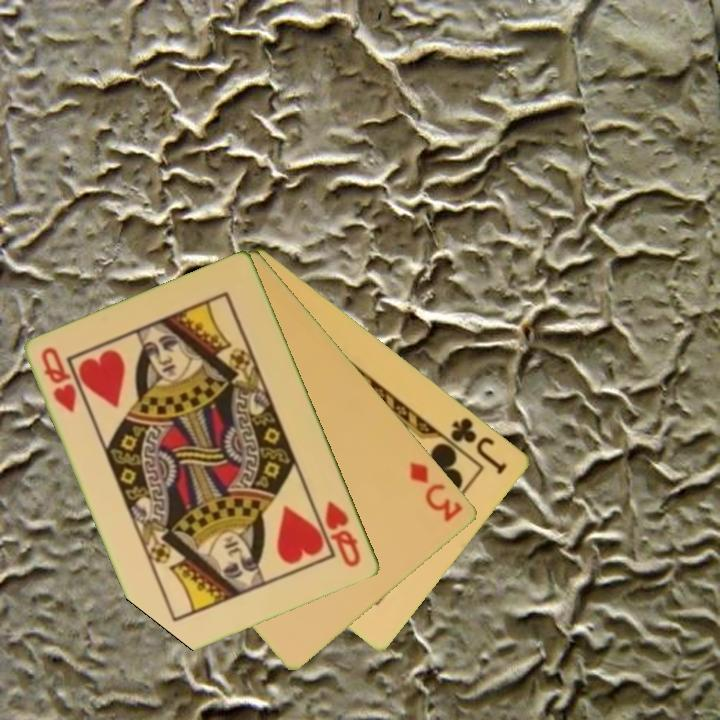3d: (406, 458, 467, 525)
Jc: (447, 413, 511, 478)
Qh: (322, 498, 364, 571), (38, 343, 80, 416)
